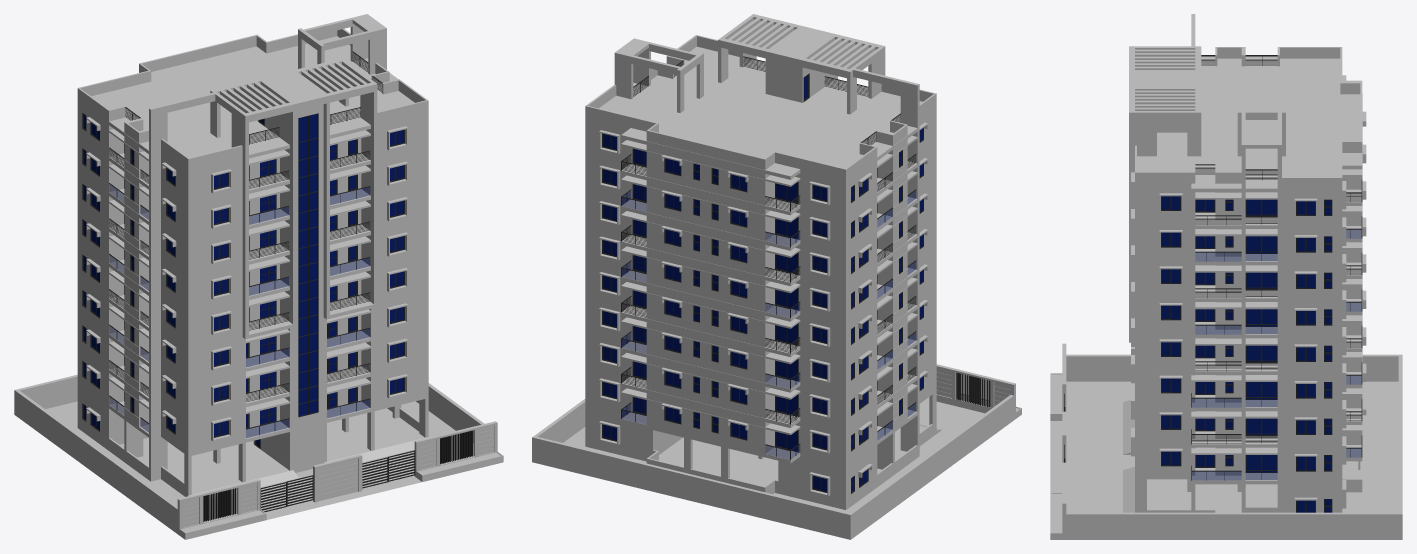
Rendered from apartment_building_-_3d_model.glb.
The picture shows the model from 3 angles, left to right: view 1: azimuth 30°, elevation 25°; view 2: azimuth 150°, elevation 25°; view 3: azimuth 270°, elevation 25°; orthographic projection. The views are drawn at different scales.
Visible parts, largest first — view 1: 3DSMeshMatrix (×14); view 2: 3DSMeshMatrix (×15); view 3: 3DSMeshMatrix (×14).
Boxes of the visible parts, box(x1,y1,x2,y2) form: 3DSMeshMatrix (×14): box(14, 14, 503, 539); 3DSMeshMatrix (×15): box(532, 14, 1021, 539); 3DSMeshMatrix (×14): box(1050, 14, 1402, 539).
Bounding box in the file's own units: 1128 × 1260 × 1050.
